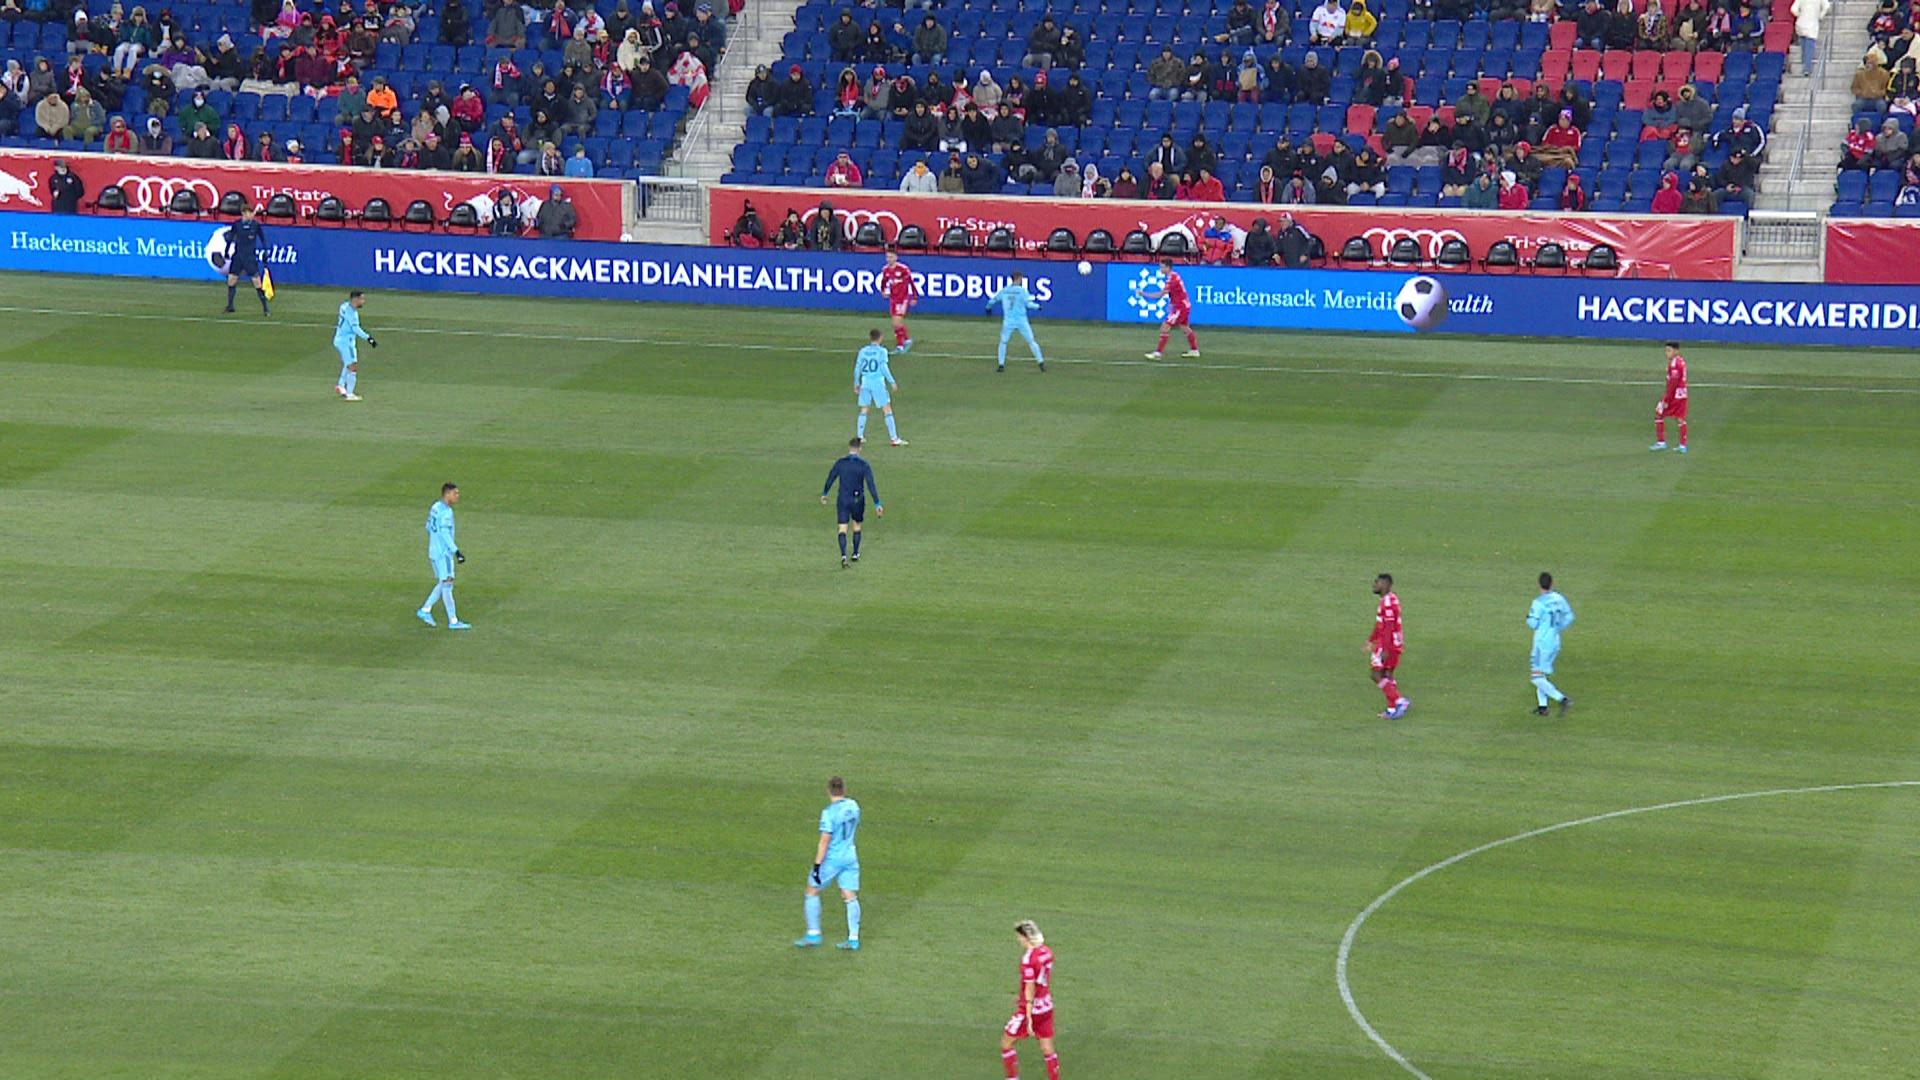football: (1077, 261, 1092, 274)
